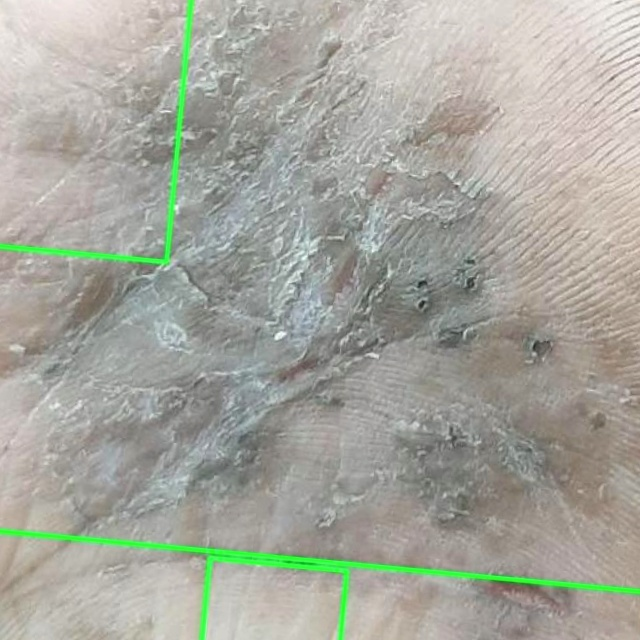Eczema: (0, 0, 191, 261), (202, 557, 346, 639)
